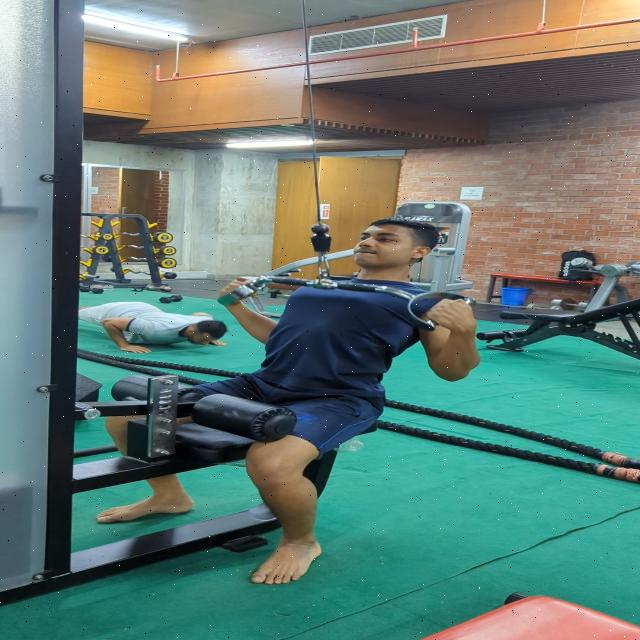Normal_LatPulldown: (104, 213, 495, 597)
